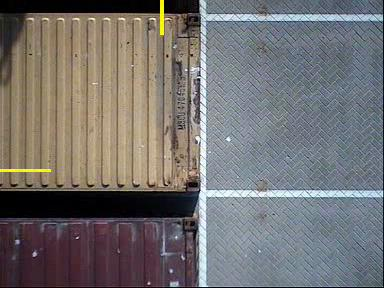groundmarker_2: (201, 70, 252, 128), (199, 215, 250, 272)
